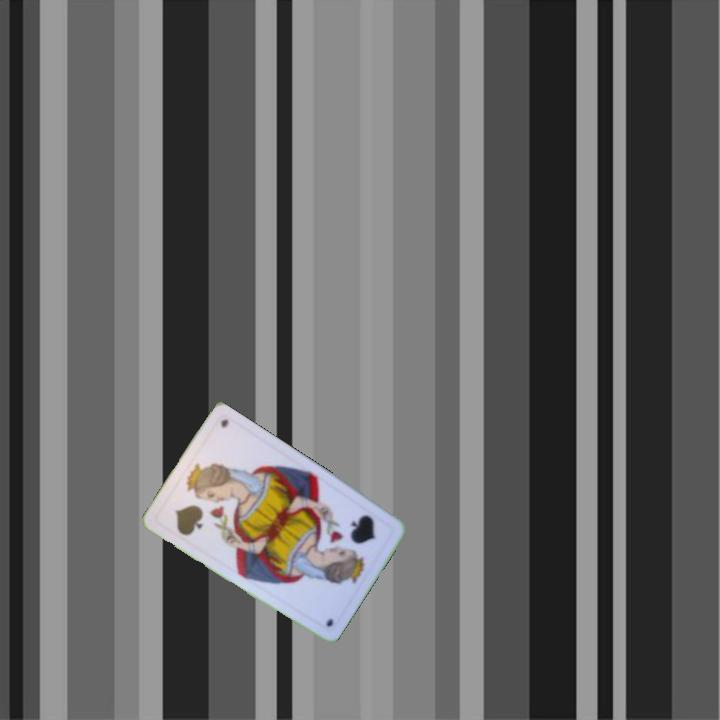s_q.png: (314, 497, 397, 582), (152, 465, 235, 550)
